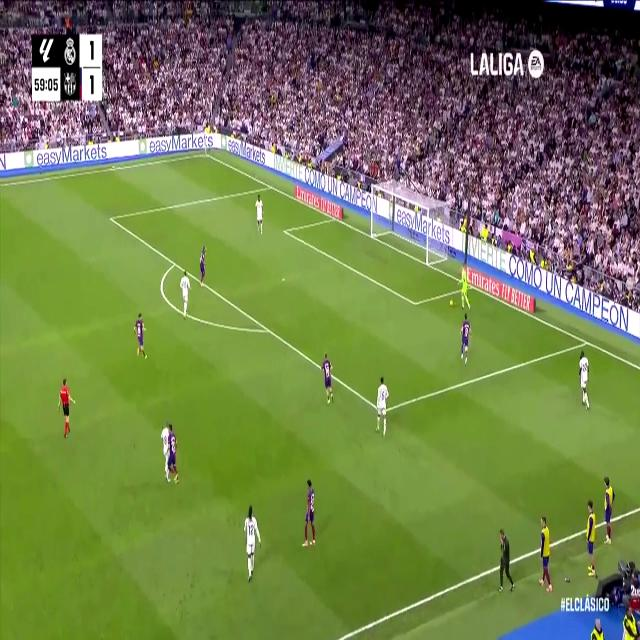bigarea_bottom_outter: (582, 333, 591, 349)
bigarea_top_inner: (107, 210, 115, 227)
bigarea_top_outter: (267, 180, 274, 192)
bottom_arc_area_intersection: (263, 321, 272, 338)
corner: (201, 149, 209, 159)
smallarea_bottom_inner: (411, 293, 419, 312)
smallarea_top_inner: (283, 226, 287, 236)
top_arc_area_intersection: (172, 257, 176, 269)
